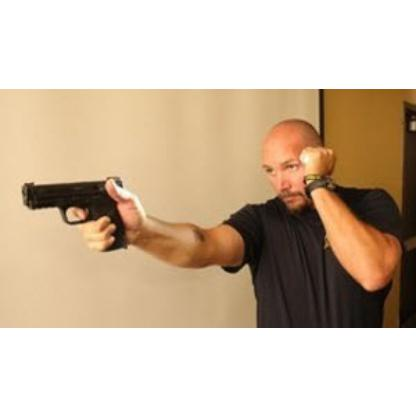gun: (20, 172, 128, 252)
